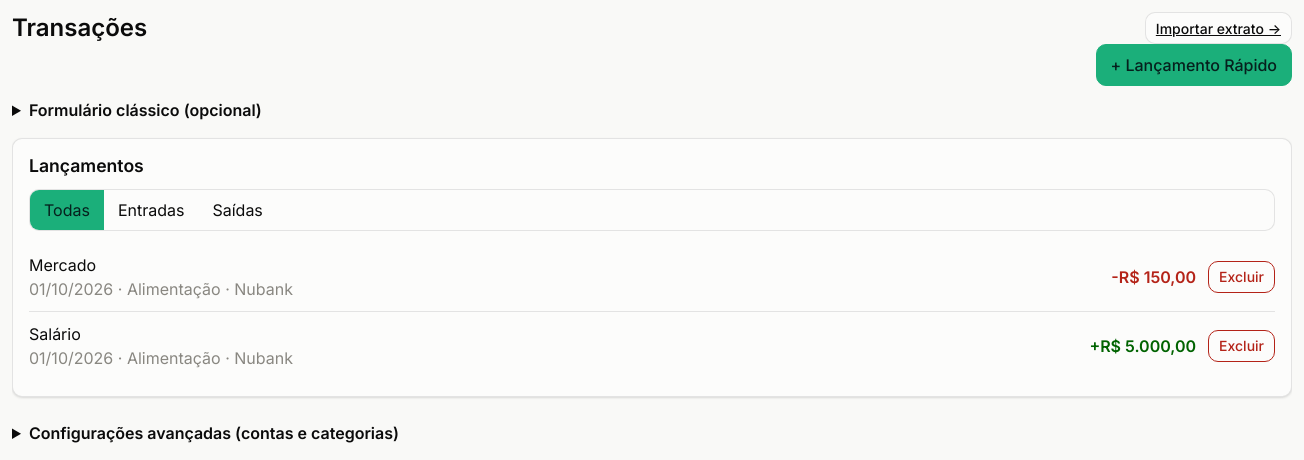
Test: TransactionsPage › filters by type
Expected: the list named "Lançamentos" is shown, [29,243,1275,380]
Step 1. Click the button "Entradas" → [151, 210], box [104,190,198,230]
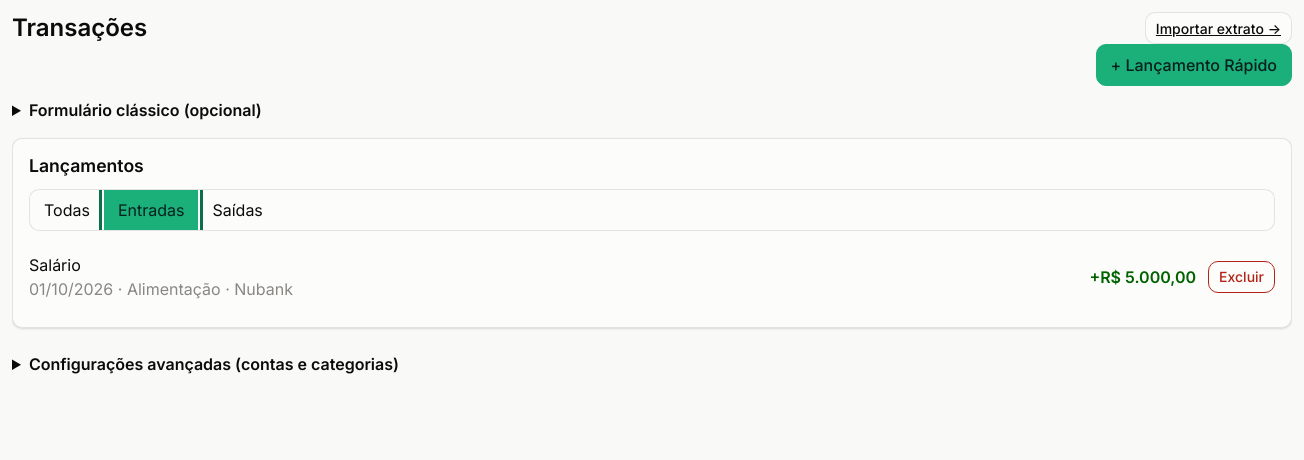
Expected: the text "Salário" is shown, [29,255,81,275]
Now the text "Mercado" is gone
Step 2. Click the button "Saídas" → [238, 210], box [198,190,277,230]
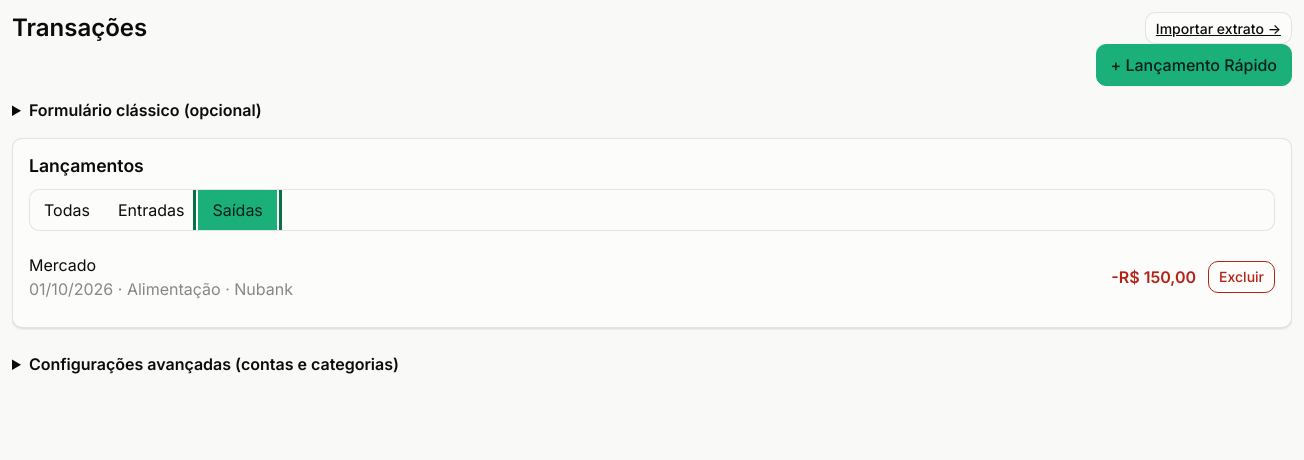
Now the text "Mercado" is shown, box [29,255,96,275]
Now the text "Salário" is gone
Step 3. Click the button "Todas" → [67, 210], box [30,190,104,230]
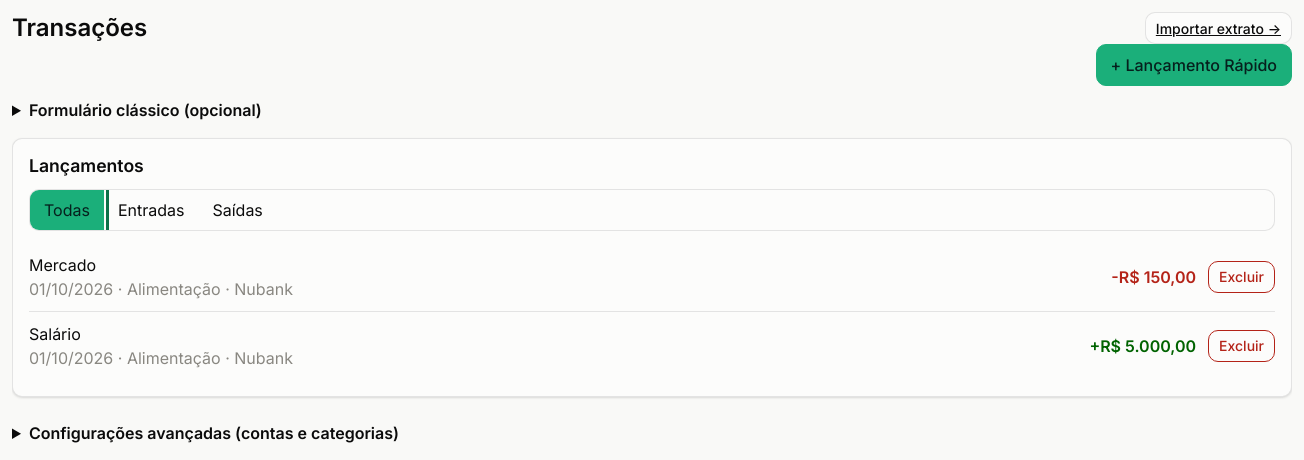
Now the text "Salário" is shown, box [29,324,81,344]
